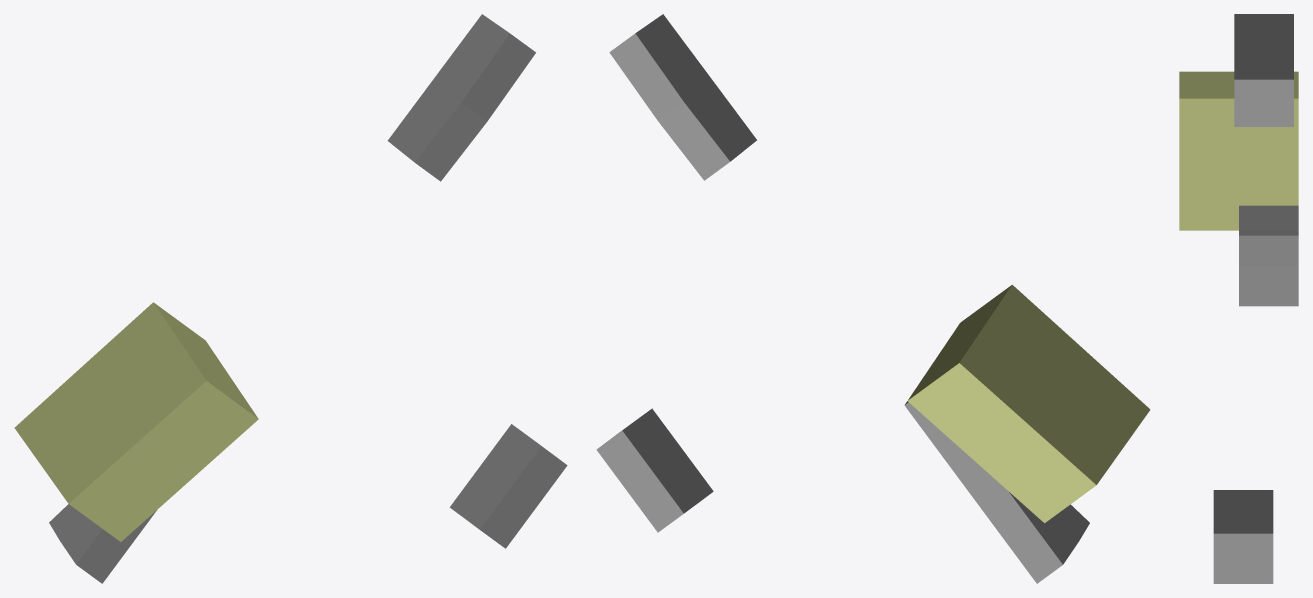
3 renders of one model, left to right at view 1: azimuth 30°, elevation 25°; view 2: azimuth 150°, elevation 25°; view 3: azimuth 270°, elevation 25°, orthographic. The views are drawn at different scales.
Parts seen in each view (by area): view 1: 0_1_2_0_0_2_1_1_0; view 2: 0_1_2_0_0_2_1_1_0; view 3: 0_1_2_0_0_2_1_1_0.
Part boxes in pixels (bbox=[...]): 0_1_2_0_0_2_1_1_0: bbox=[14, 14, 567, 583]; 0_1_2_0_0_2_1_1_0: bbox=[596, 14, 1150, 583]; 0_1_2_0_0_2_1_1_0: bbox=[1179, 14, 1298, 583].
Size of the model in its own units: 34.15 by 32.02 by 6.
